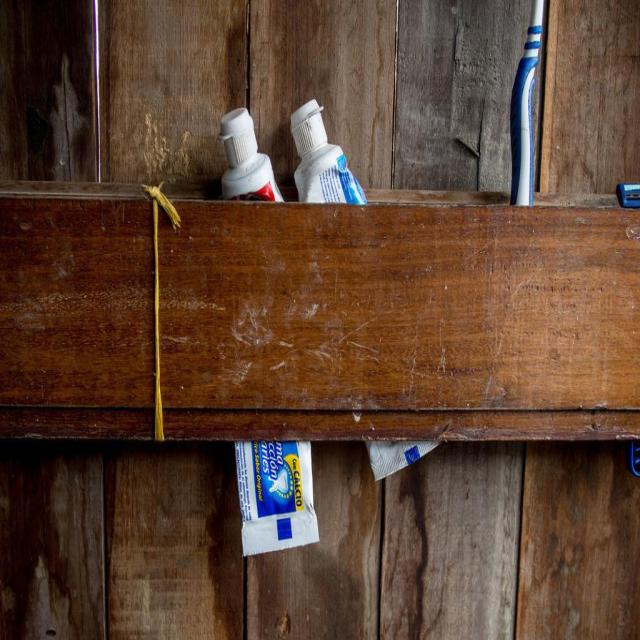Toothpaste: (213, 96, 448, 565)
